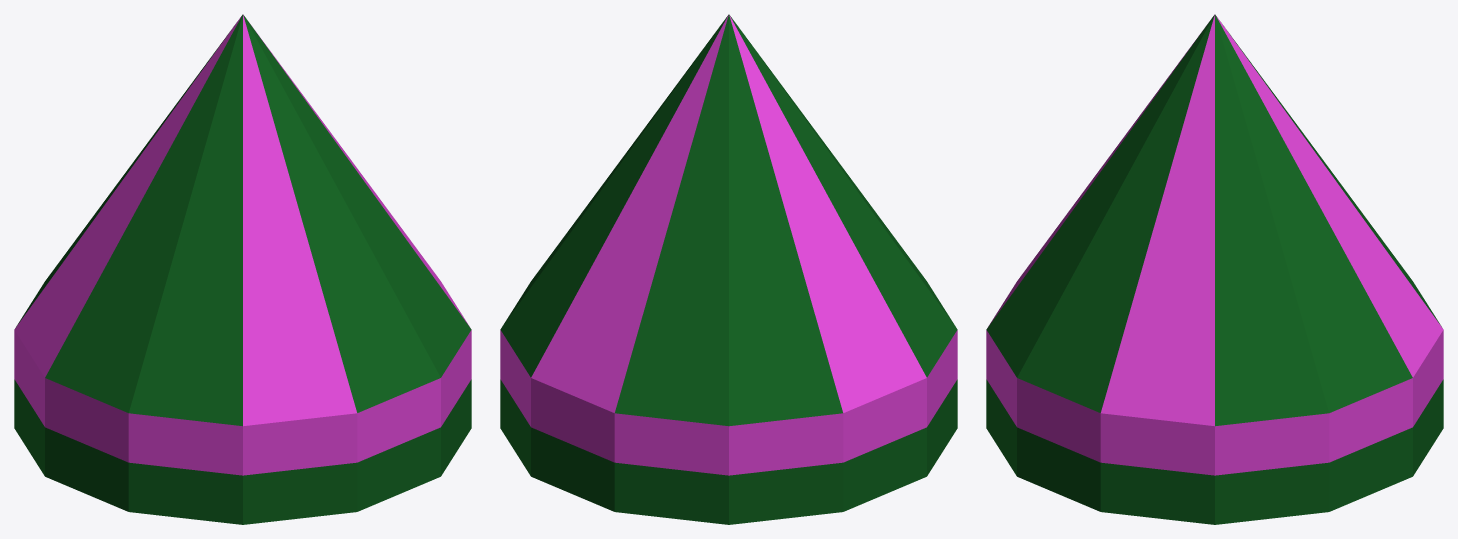
3 renders of one model, left to right at view 1: azimuth 30°, elevation 25°; view 2: azimuth 150°, elevation 25°; view 3: azimuth 270°, elevation 25°, orthographic.
Parts seen in each view (by area): view 1: cone4; view 2: cone4; view 3: cone4.
Boxes of the visible parts, x1,y1,x2,y2 form: cone4: [14, 14, 471, 524]; cone4: [500, 14, 957, 524]; cone4: [986, 14, 1443, 524].
Size of the model in its own units: 200 by 200 by 200.
